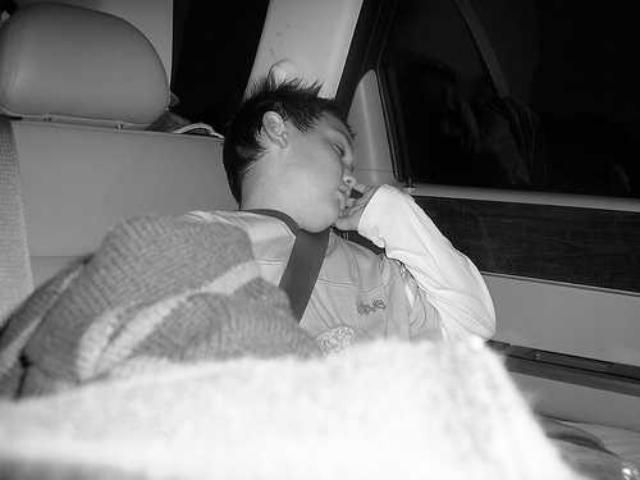Seatbelt: (277, 222, 333, 326)
